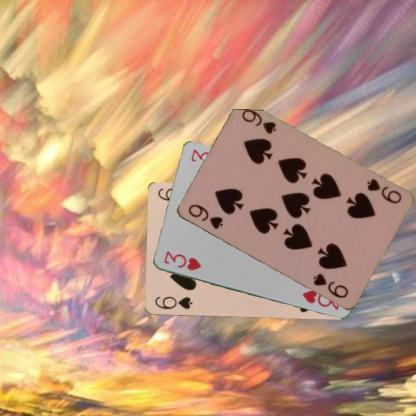3h: (161, 249, 202, 272)
6s: (152, 294, 194, 311)
9s: (185, 201, 223, 232), (363, 176, 403, 205)
